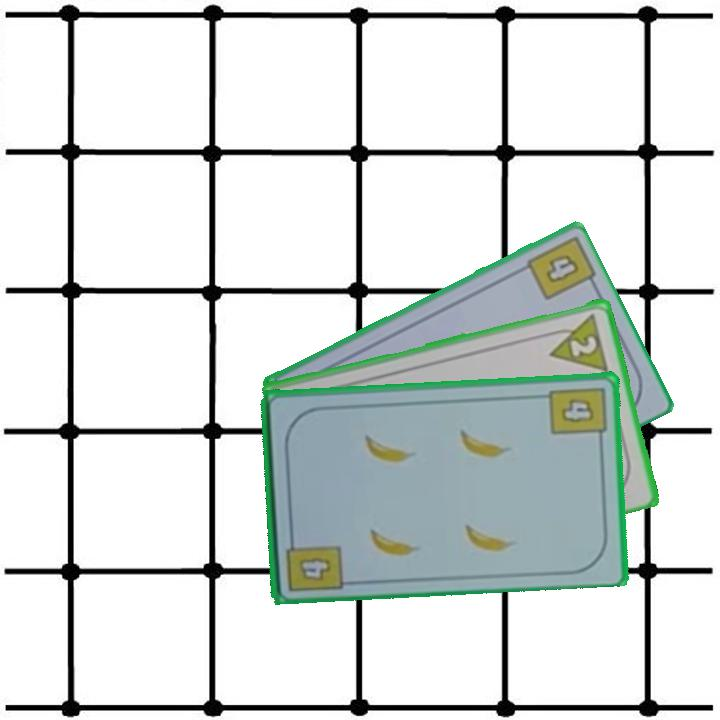2p: (542, 309, 611, 374)
4b: (282, 529, 345, 594), (545, 383, 609, 445), (542, 250, 583, 286)
